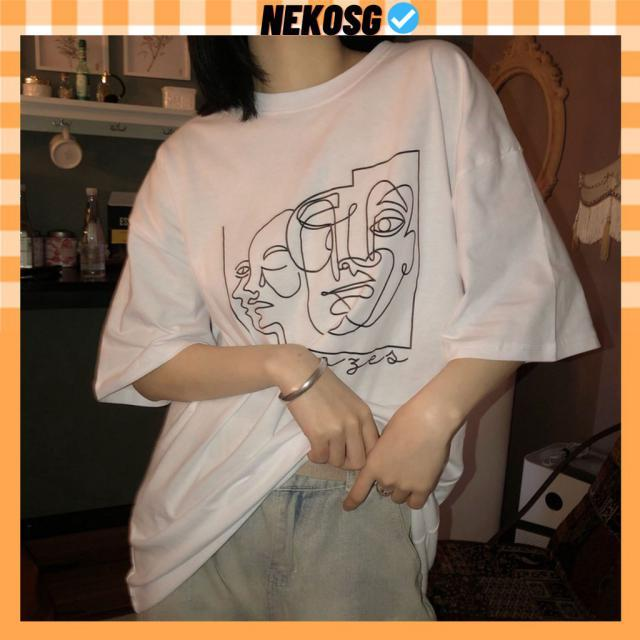Shirt: (89, 35, 602, 620)
